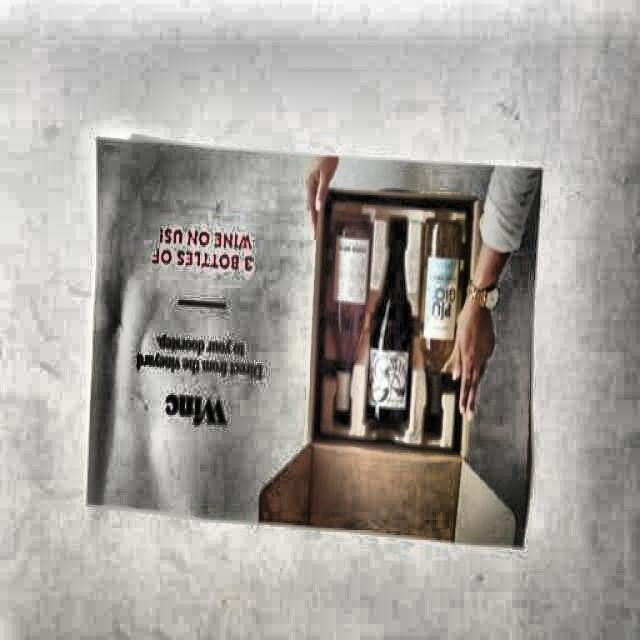Paper: (85, 134, 541, 544)
